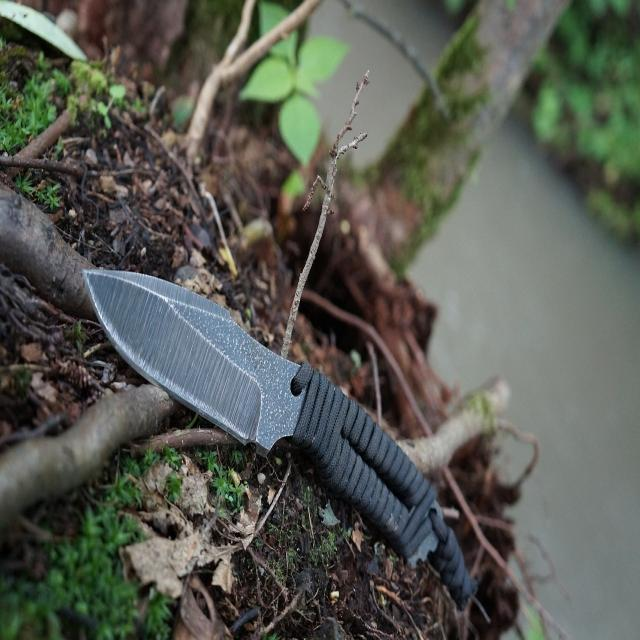knife: (83, 270, 445, 566)
